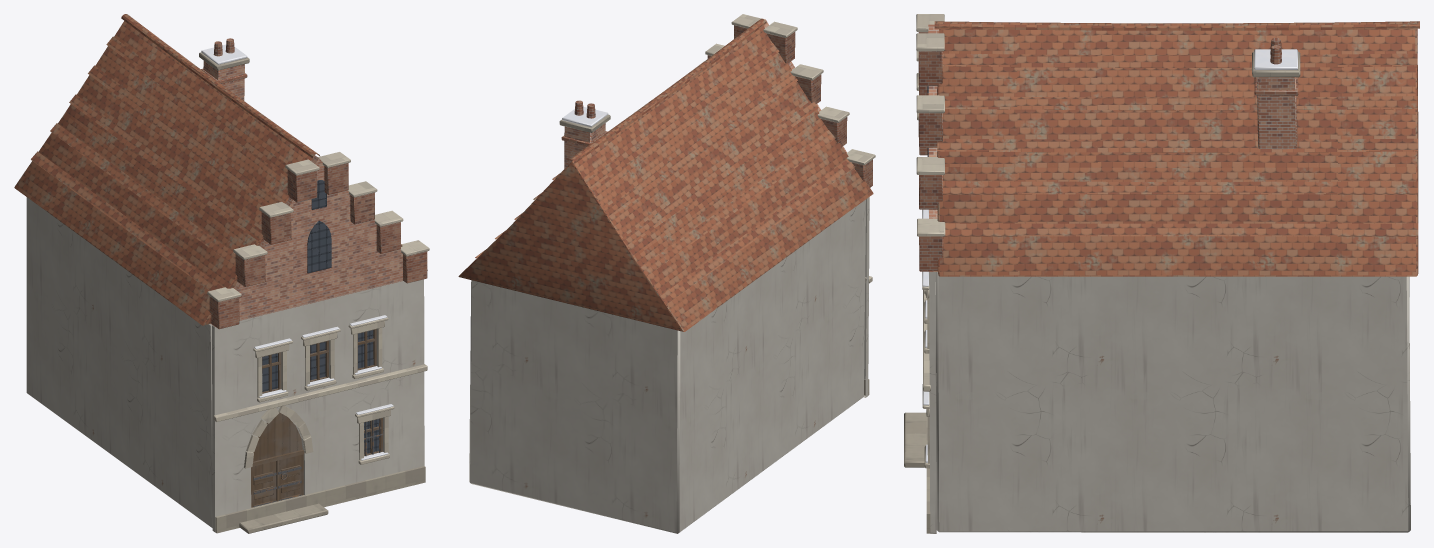
File: kaz_house_b.glb
3 renders of one model, left to right at view 1: azimuth 30°, elevation 25°; view 2: azimuth 150°, elevation 25°; view 3: azimuth 270°, elevation 25°, orthographic. The views are drawn at different scales.
Visible parts, largest first — view 1: kaz_house_b; view 2: kaz_house_b; view 3: kaz_house_b.
Part boxes in pixels (box(x1,y1,x2,y2)): kaz_house_b: box(14, 14, 429, 533); kaz_house_b: box(458, 14, 875, 533); kaz_house_b: box(904, 14, 1419, 533).
Size of what is drawn, in the model's own units: 7.56 by 11.39 by 11.81.
Materials: 10 (10 with a texture image).
